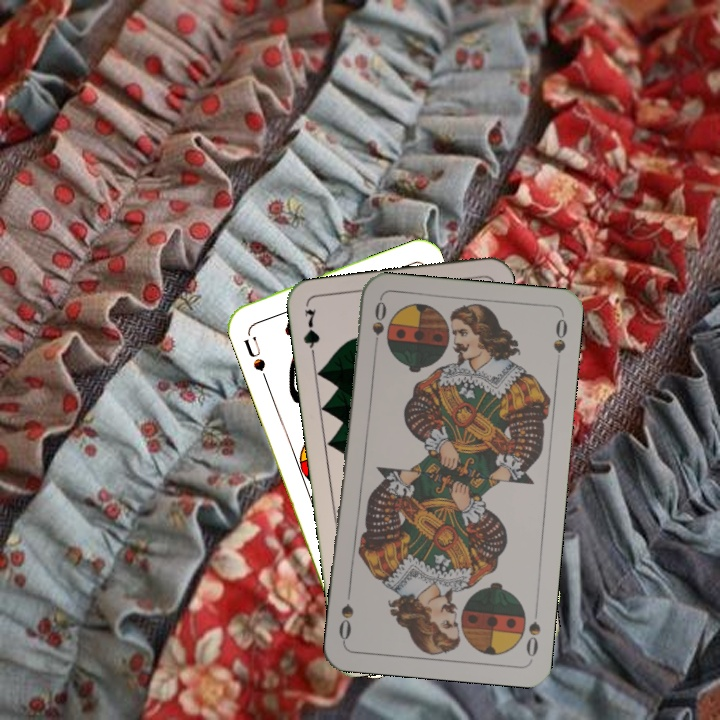G7: (299, 305, 323, 364)
SO: (368, 297, 389, 356), (522, 602, 543, 659)
SU: (239, 332, 270, 384)
